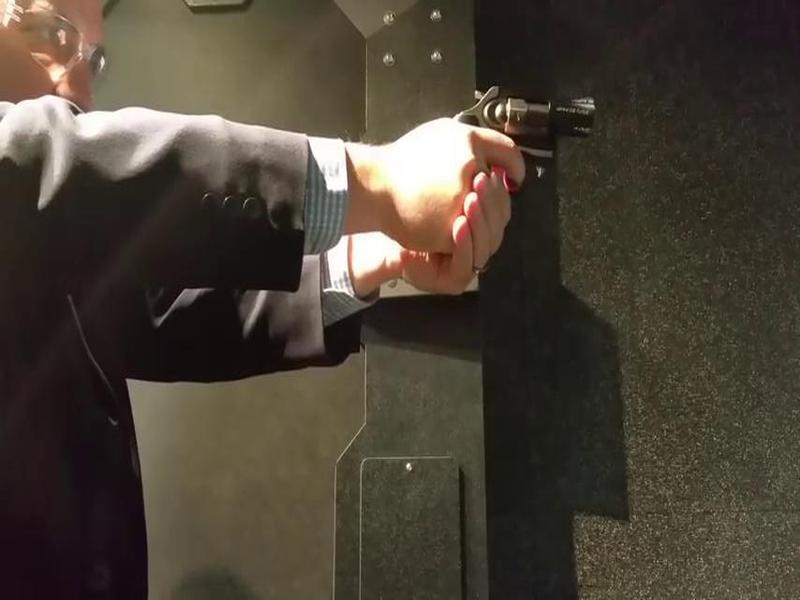Revolver: (445, 67, 603, 197)
